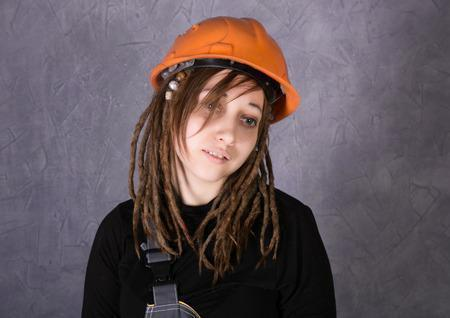helmet: (150, 15, 299, 123)
